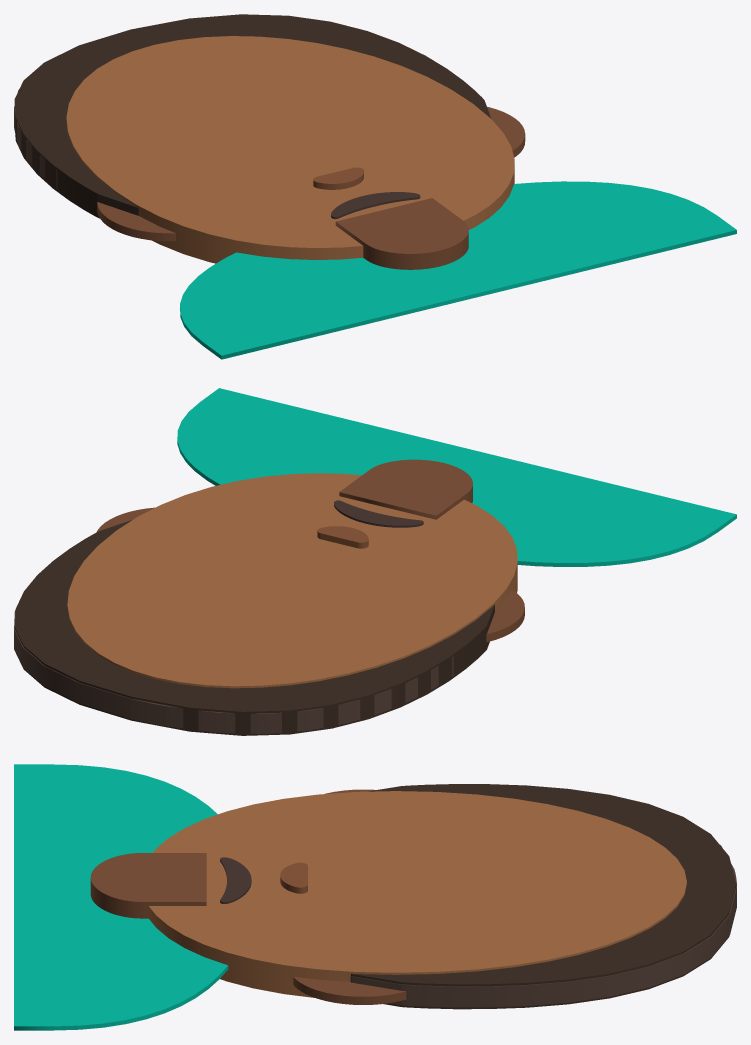
The model's file is emoji_u1f64d_1f3fe_200d_2642.glb.
3 renders of one model, top to bottom at view 1: azimuth 30°, elevation 25°; view 2: azimuth 150°, elevation 25°; view 3: azimuth 270°, elevation 25°, orthographic. The views are drawn at different scales.
Parts seen in each view (by area): view 1: emoji_u1f64d_1f3fe_200d_2642; view 2: emoji_u1f64d_1f3fe_200d_2642; view 3: emoji_u1f64d_1f3fe_200d_2642.
Boxes of the visible parts, x1,y1,x2,y2 form: emoji_u1f64d_1f3fe_200d_2642: [14, 14, 736, 359]; emoji_u1f64d_1f3fe_200d_2642: [14, 388, 736, 735]; emoji_u1f64d_1f3fe_200d_2642: [14, 764, 736, 1030].
Bounding box in the file's own units: 0.0271 × 0.002 × 0.0316.
